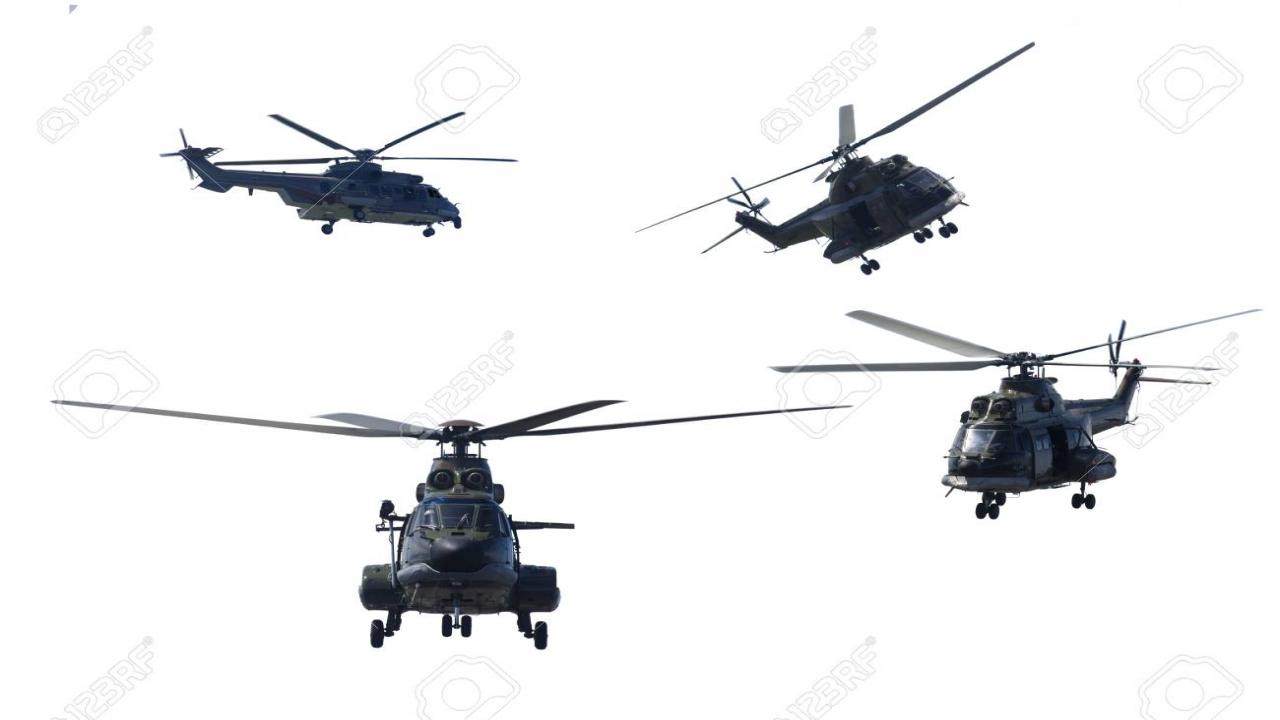Helicopter: (35, 384, 870, 657), (765, 299, 1266, 528), (623, 37, 1048, 289), (149, 100, 528, 248)
